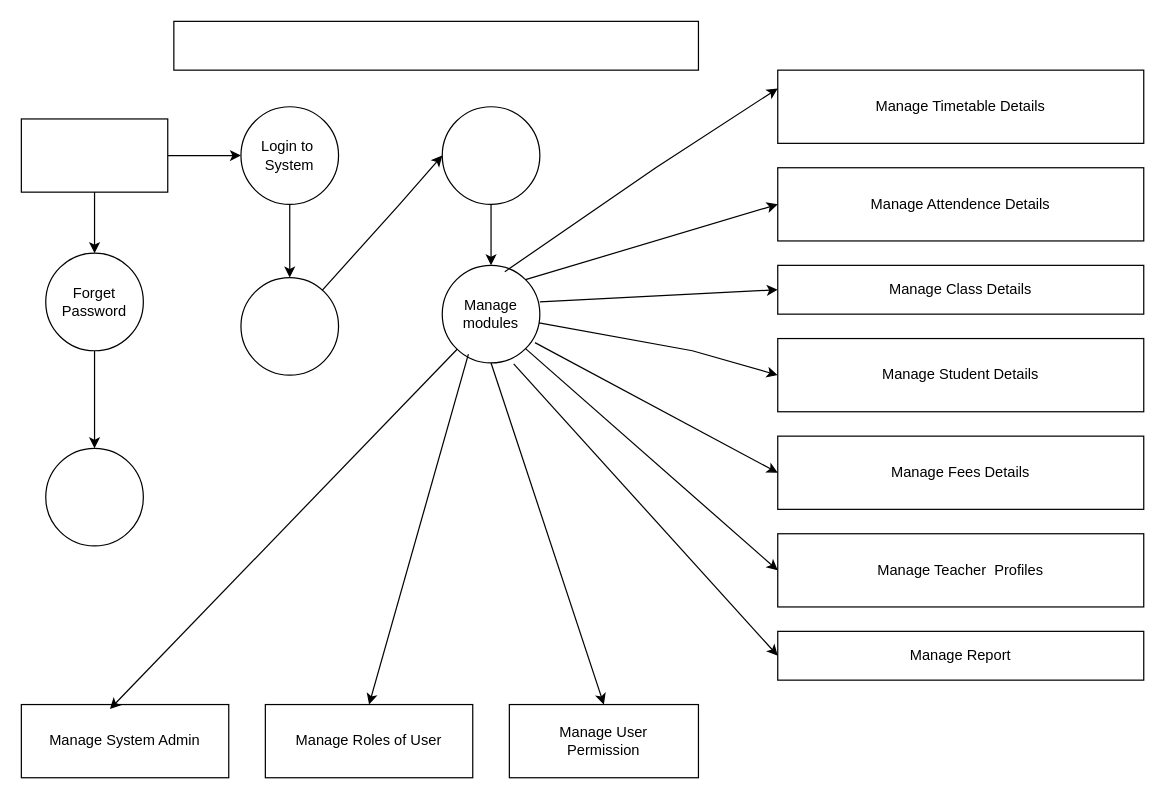
Some shapes in this 1165 by 799 pixel diagram are drawn without their labels. The centre of each missing label's shape, as x and y in pixels:
"Admin" belongs at point 94,155.
"Check credentials" belongs at point 289,325.
"Check Roles of Access" belongs at point 490,155.
"Send email to User" belongs at point 94,496.
"Student Information System" belongs at point 435,45.
